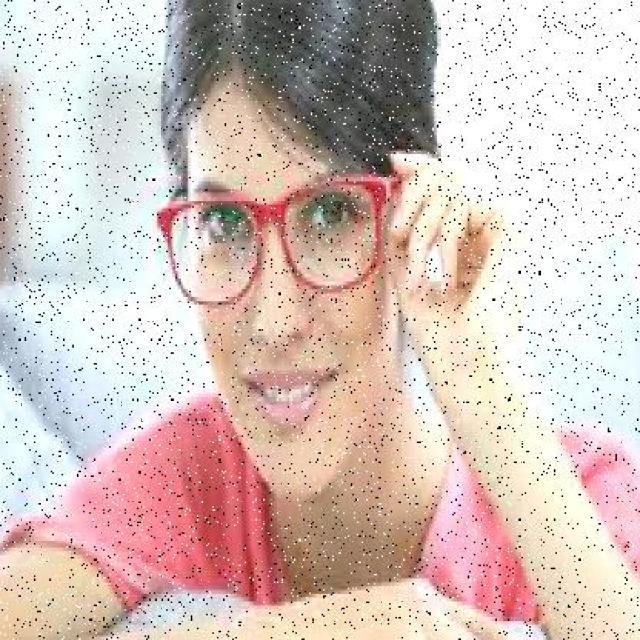mask: (152, 174, 391, 297)
